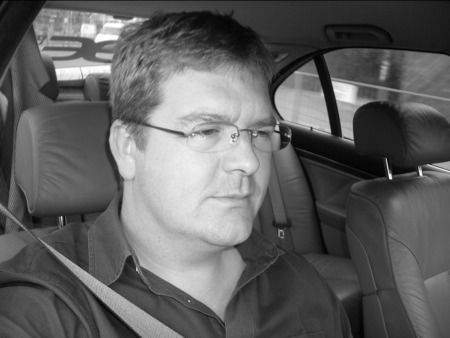without_mask: (117, 52, 290, 254)
